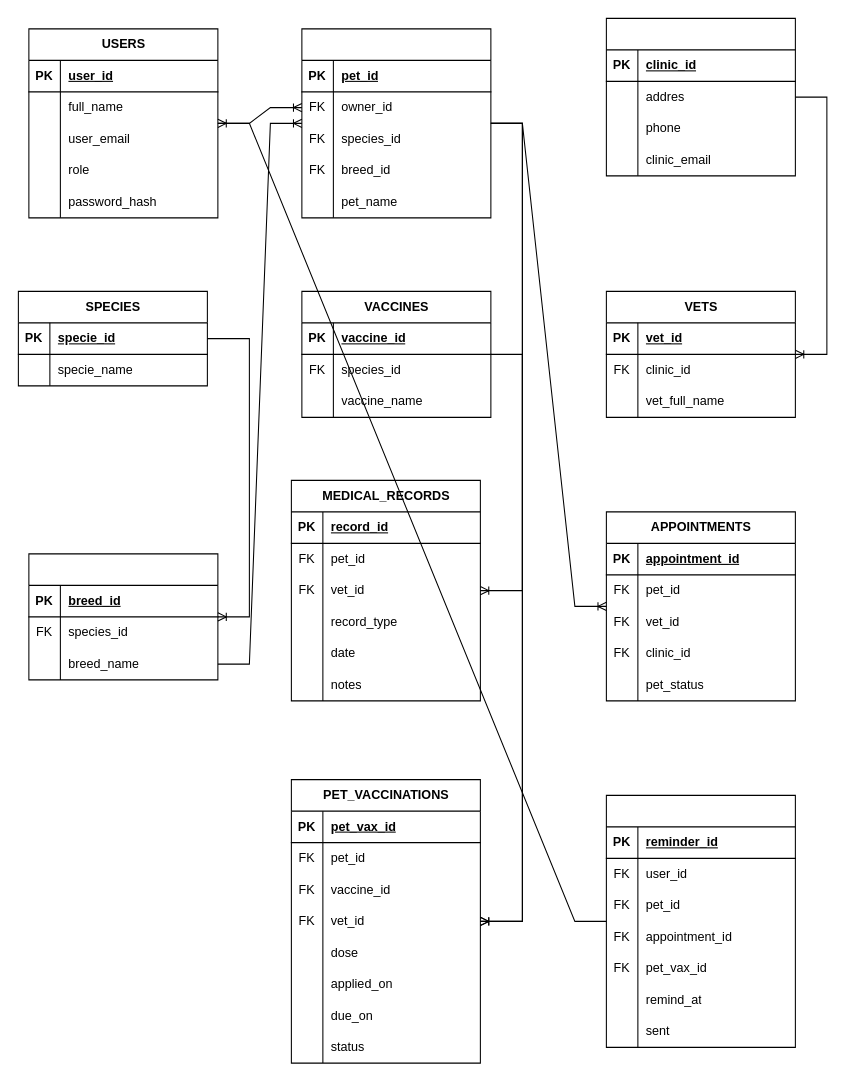
The diagram is 854 pixels wide and 1082 high, and some of its shapes have lost their labels. Here are the shapes that lost their labels. From the top down, the box of each, then its label:
(605, 17, 795, 176): CLINICS
(301, 28, 491, 218): PETS
(28, 553, 218, 680): BREEDS
(605, 794, 795, 1047): REMINDERS
